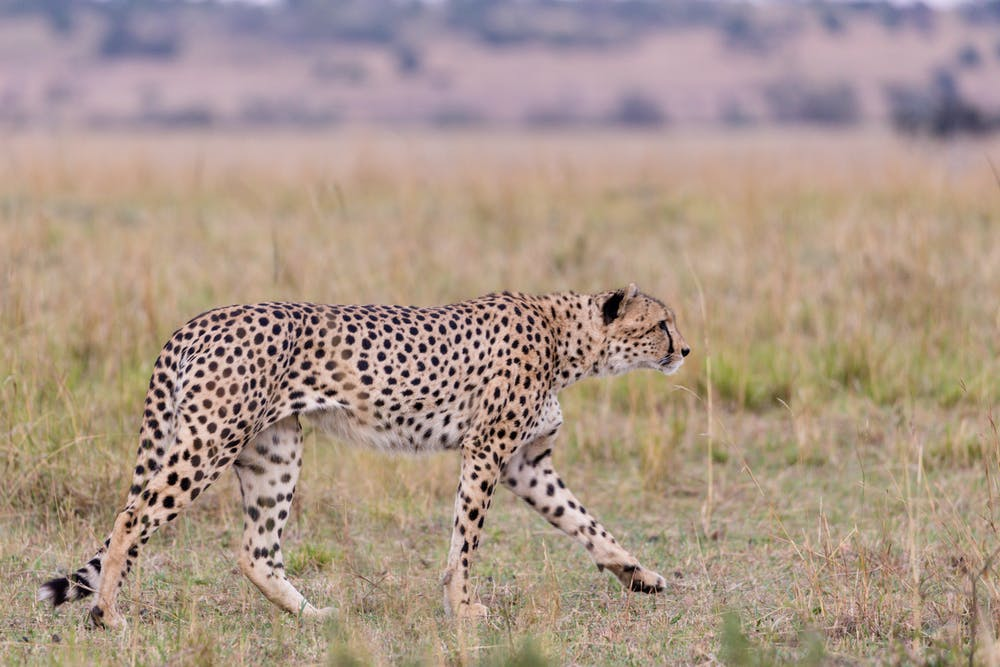cheetah: (588, 277, 697, 390)
